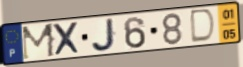6: (122, 16, 147, 50)
8: (160, 11, 184, 47)
D: (189, 7, 218, 45)
J: (90, 17, 118, 54)
M: (20, 22, 57, 62)
X: (51, 21, 83, 58)
